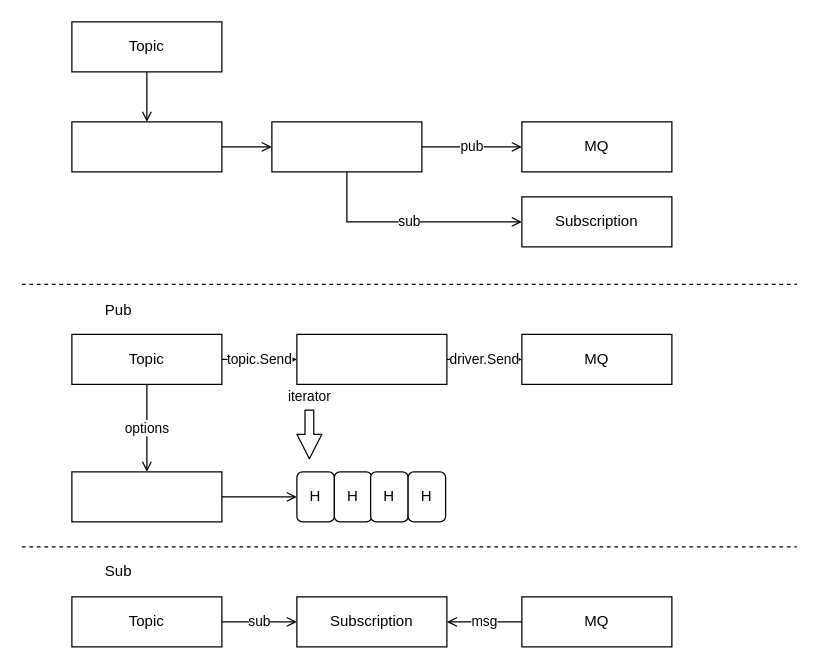
This 820x669 diagram has some shape labels left out. Here are the shapes that lost their labels. From the top down, the centre of each, then its label:
At (x=146, y=146): "Driver".
At (x=346, y=146): "Conn".
At (x=371, y=358): "Endpoint".
At (x=146, y=496): "TopicOptions".
